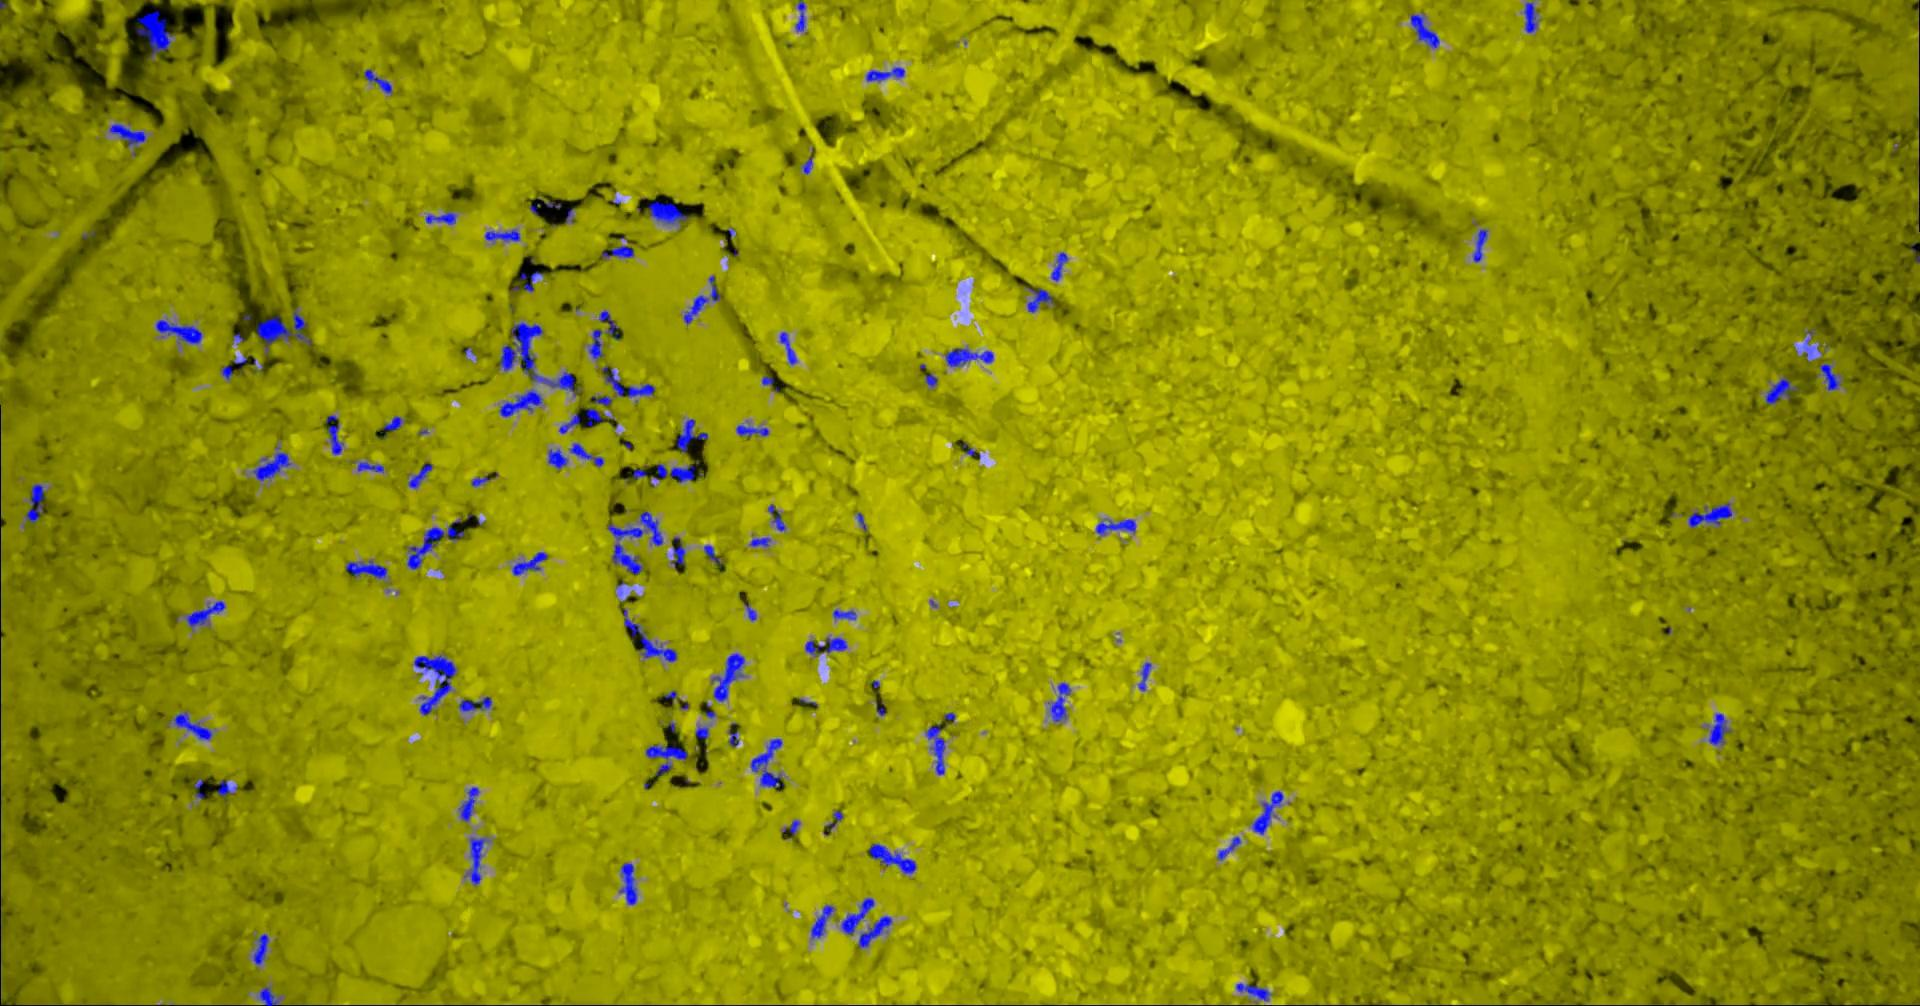ant: (607, 511, 662, 574), (406, 517, 463, 569), (622, 608, 676, 661), (413, 654, 456, 714), (257, 307, 311, 354), (135, 9, 173, 57), (683, 276, 720, 324), (601, 365, 654, 398), (750, 738, 783, 788), (711, 653, 744, 701), (588, 310, 618, 358), (869, 843, 916, 873), (1251, 791, 1283, 835), (251, 446, 290, 480), (645, 744, 687, 775), (841, 897, 874, 934), (499, 389, 542, 417), (463, 837, 488, 885), (857, 915, 891, 948), (155, 319, 201, 343), (676, 418, 707, 452), (173, 711, 211, 739), (185, 600, 225, 626), (1688, 503, 1731, 527), (648, 199, 690, 224), (1410, 13, 1439, 47), (926, 723, 943, 774), (1048, 682, 1070, 721), (510, 551, 547, 575), (1765, 376, 1797, 404), (109, 123, 145, 147), (945, 348, 993, 366), (569, 442, 603, 466), (804, 636, 846, 655), (810, 904, 834, 937), (25, 483, 44, 522), (653, 464, 695, 481), (618, 862, 636, 904), (345, 560, 386, 578), (1708, 713, 1730, 744), (325, 415, 343, 453), (363, 69, 391, 93), (458, 786, 477, 821), (510, 271, 541, 291), (1027, 287, 1051, 312), (778, 332, 796, 365), (1236, 983, 1271, 1000), (1818, 363, 1840, 390), (1095, 520, 1135, 533), (408, 464, 430, 488), (865, 67, 904, 81), (1523, 0, 1539, 32), (1217, 836, 1239, 859), (1472, 229, 1487, 262), (458, 696, 491, 711), (251, 934, 268, 964), (530, 198, 561, 213), (1050, 251, 1067, 281), (557, 413, 580, 433), (484, 229, 519, 241), (767, 504, 785, 530), (1801, 328, 1815, 359), (670, 536, 684, 567), (735, 424, 768, 437), (547, 448, 568, 469), (259, 986, 281, 1005), (425, 210, 455, 224), (601, 245, 632, 257), (585, 408, 606, 426), (703, 545, 721, 565), (216, 780, 237, 796), (1138, 662, 1150, 690), (794, 0, 805, 30), (824, 810, 842, 829), (357, 461, 383, 473), (383, 415, 401, 431), (832, 608, 856, 619), (728, 721, 738, 746), (783, 819, 799, 835), (695, 727, 709, 743), (193, 779, 204, 798), (590, 395, 611, 405), (748, 537, 770, 546), (924, 373, 937, 387), (471, 476, 488, 486), (221, 365, 232, 379), (632, 467, 645, 479)
